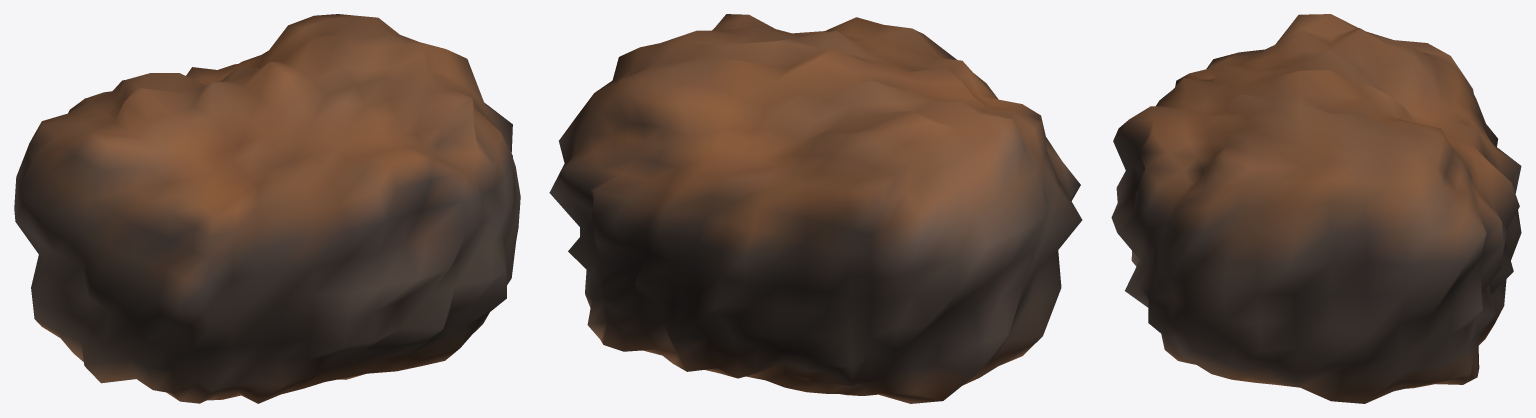
File: barnacle-bill.glb
3 views of the same model, side by side, from view 1: azimuth 30°, elevation 25°; view 2: azimuth 150°, elevation 25°; view 3: azimuth 270°, elevation 25° (orthographic). The views are drawn at different scales.
Parts seen in each view (by area): view 1: rock-barnacle-bill; view 2: rock-barnacle-bill; view 3: rock-barnacle-bill.
Boxes of the visible parts, x1,y1,x2,y2 form: rock-barnacle-bill: (14, 14, 520, 403); rock-barnacle-bill: (549, 14, 1082, 403); rock-barnacle-bill: (1111, 14, 1521, 403).
Bounding box in the file's own units: 0.36 × 0.2 × 0.3.
